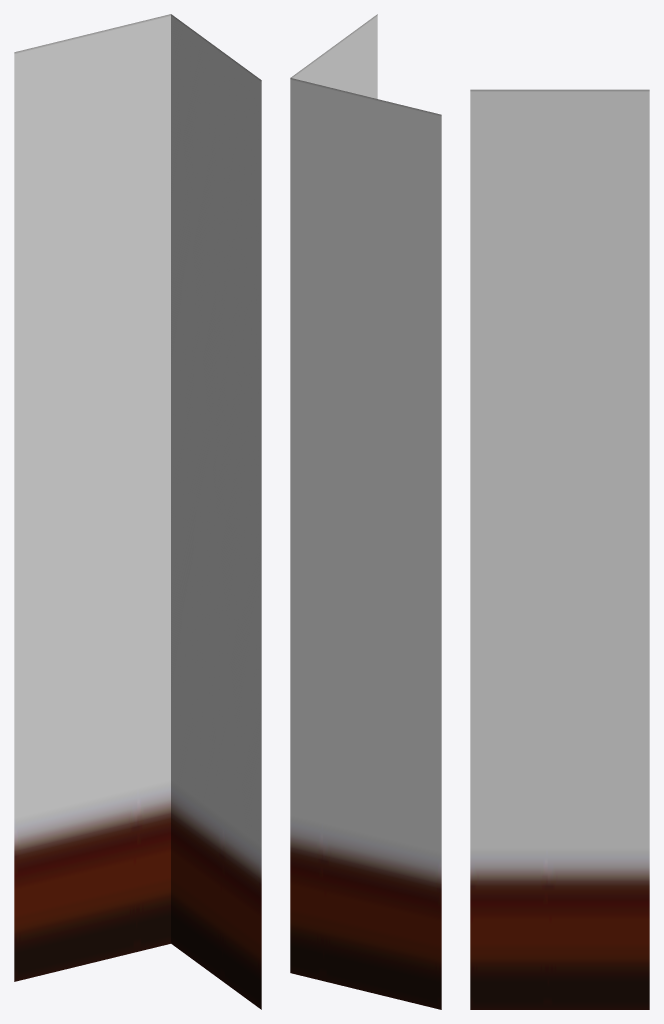
The model's file is W_A1_Eckverschluß [Weiß]_441.glb.
The picture shows the model from 3 angles, left to right: view 1: azimuth 30°, elevation 25°; view 2: azimuth 150°, elevation 25°; view 3: azimuth 270°, elevation 25°; orthographic projection. The views are drawn at different scales.
Visible parts, largest first — view 1: pPlaneShape7; view 2: pPlaneShape7; view 3: pPlaneShape7.
Part boxes in pixels (x1,y1,x2,y2): pPlaneShape7: (14, 14, 261, 1009); pPlaneShape7: (290, 14, 441, 1009); pPlaneShape7: (470, 89, 649, 1009).
Size of the model in its own units: 0.0615 by 0.3486 by 0.0615.
Materials: 1 (1 with a texture image).
